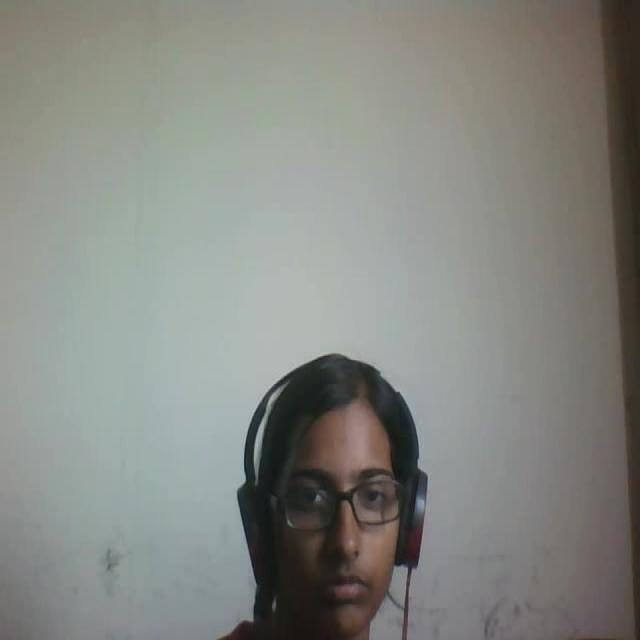Bored: (207, 334, 492, 640)
